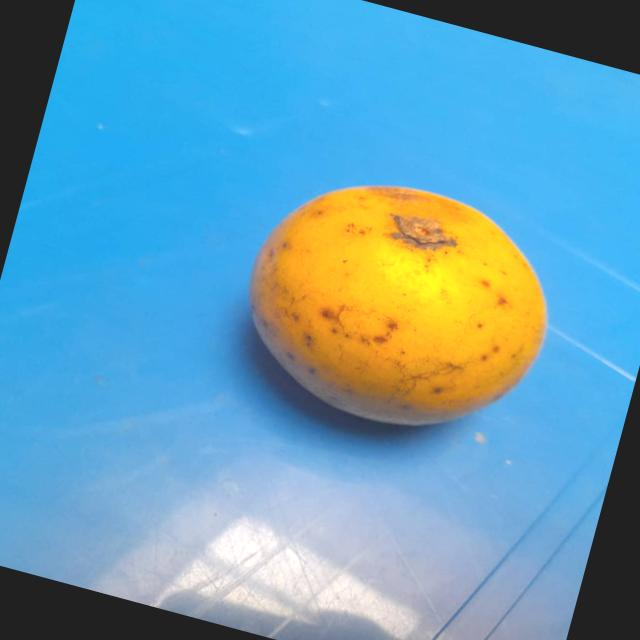Ripe orange: (209, 142, 582, 472)
